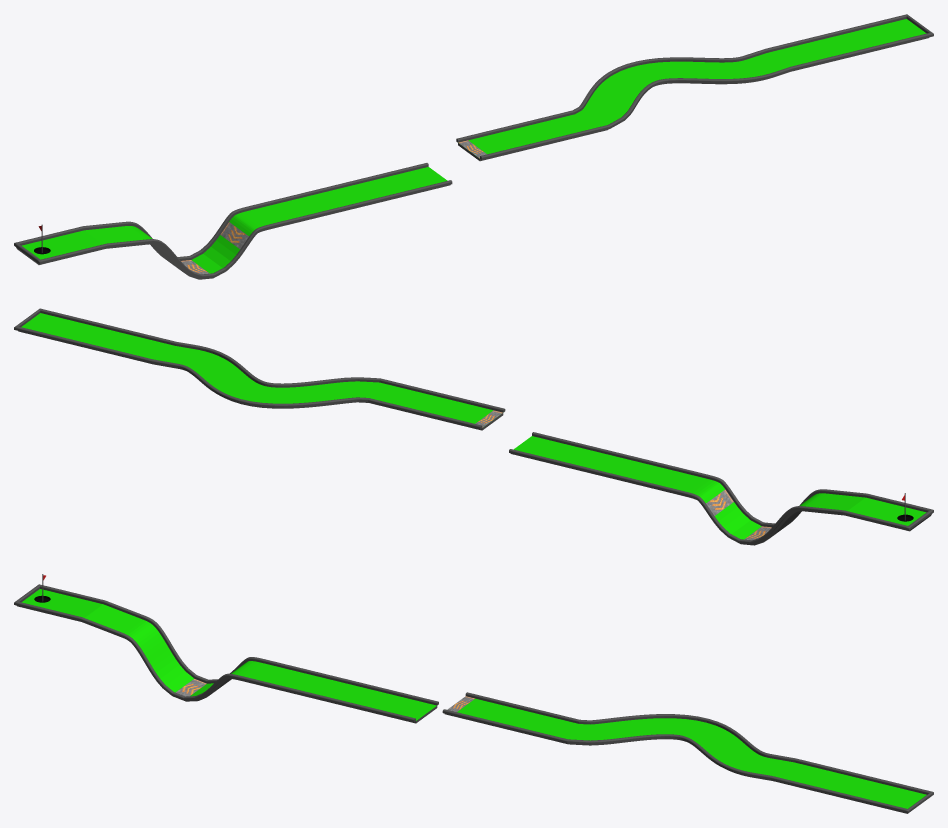
3 views of the same model, one above another, from view 1: azimuth 30°, elevation 25°; view 2: azimuth 150°, elevation 25°; view 3: azimuth 330°, elevation 25° (orthographic). The views are drawn at different scales.
Visible parts, largest first — view 1: grass, walls; view 2: grass, walls; view 3: grass, walls.
Boxes of the visible parts, x1,y1,x2,y2 form: grass: [22, 19, 926, 274]; walls: [14, 14, 933, 279]; grass: [21, 313, 926, 540]; walls: [14, 308, 933, 545]; grass: [21, 589, 926, 808]; walls: [14, 584, 933, 813].
Size of what is drawn, in the model's own units: 6006 by 530 by 686.
